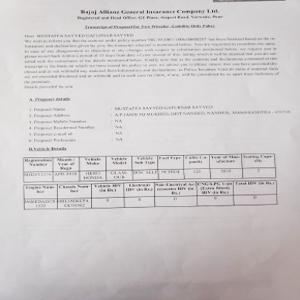table: (21, 180, 277, 212), (22, 155, 276, 181)
text: (23, 32, 281, 89), (28, 96, 293, 145), (79, 7, 223, 30)
